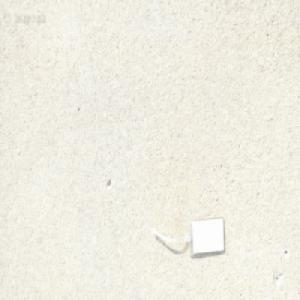LuggageTag: (148, 214, 225, 256)
